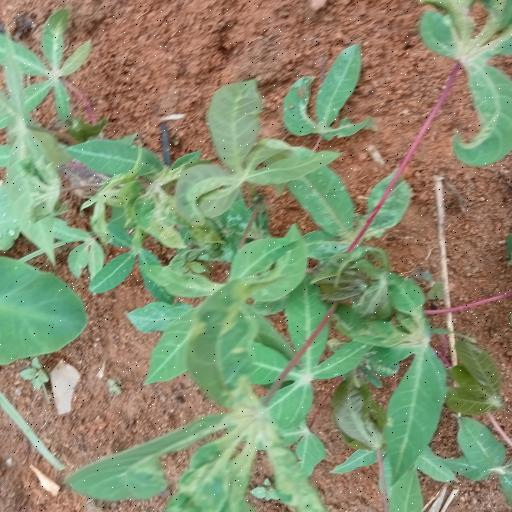Cassava_Mosaic: (79, 253, 303, 512), (328, 277, 444, 474), (176, 80, 330, 212), (414, 4, 512, 168)
